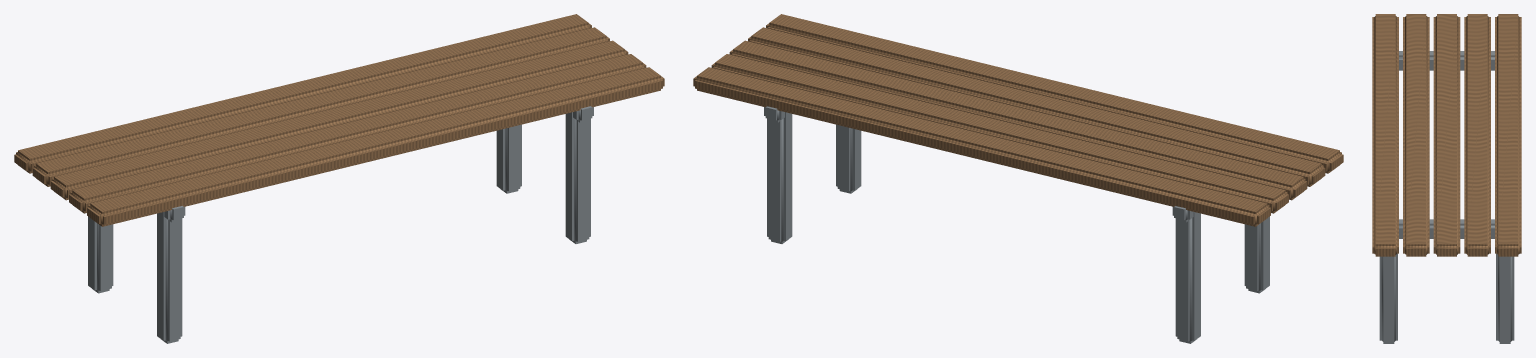
The model's file is PublicBench.glb.
3 renders of one model, left to right at view 1: azimuth 30°, elevation 25°; view 2: azimuth 150°, elevation 25°; view 3: azimuth 270°, elevation 25°, orthographic. The views are drawn at different scales.
Visible parts, largest first — view 1: ST_PublicBench_PBK_Indochine_wood.001, ST_PublicBench_PBK_Indochine_metal.001; view 2: ST_PublicBench_PBK_Indochine_wood.001, ST_PublicBench_PBK_Indochine_metal.001; view 3: ST_PublicBench_PBK_Indochine_wood.001, ST_PublicBench_PBK_Indochine_metal.001.
Boxes of the visible parts, left/top/right/bottom form: ST_PublicBench_PBK_Indochine_wood.001: left=14, top=14, right=664, bottom=226; ST_PublicBench_PBK_Indochine_metal.001: left=88, top=106, right=593, bottom=343; ST_PublicBench_PBK_Indochine_wood.001: left=693, top=14, right=1343, bottom=226; ST_PublicBench_PBK_Indochine_metal.001: left=764, top=106, right=1269, bottom=343; ST_PublicBench_PBK_Indochine_wood.001: left=1372, top=14, right=1521, bottom=256; ST_PublicBench_PBK_Indochine_metal.001: left=1379, top=51, right=1514, bottom=343.
Bounding box in the file's own units: 1.8 × 0.4625 × 0.487.
Materials: 2 (1 with a texture image).
